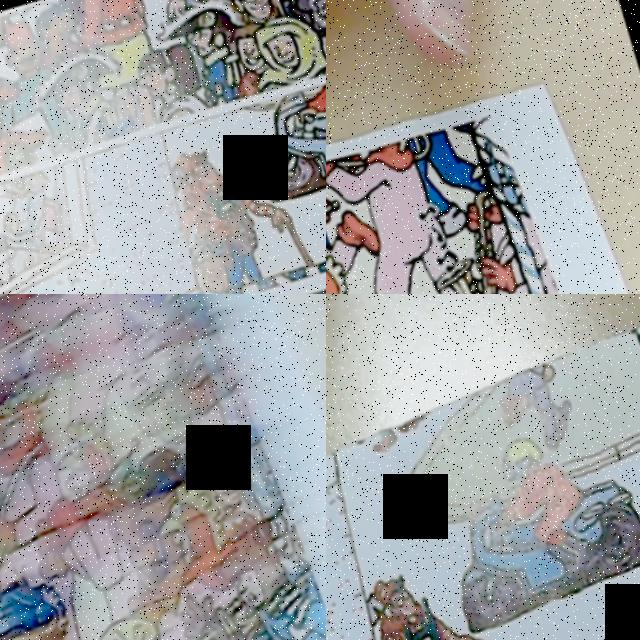waldo: (174, 439, 246, 528), (360, 564, 425, 636), (208, 0, 282, 36), (174, 149, 222, 201)
